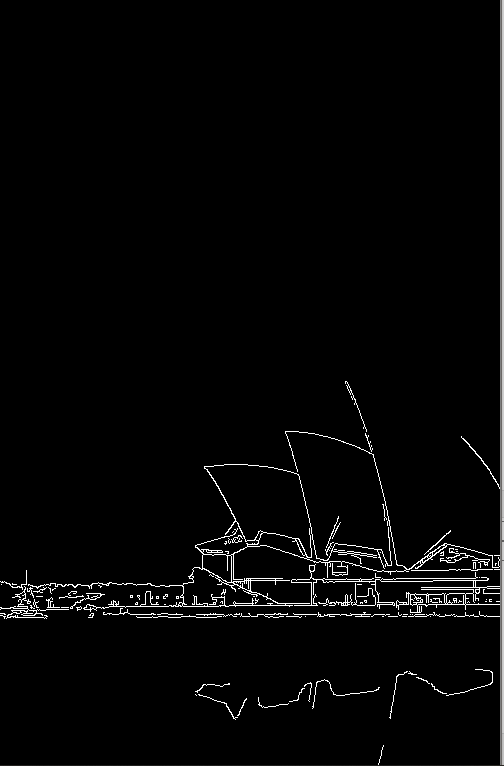opera house: (113, 330, 503, 620)
